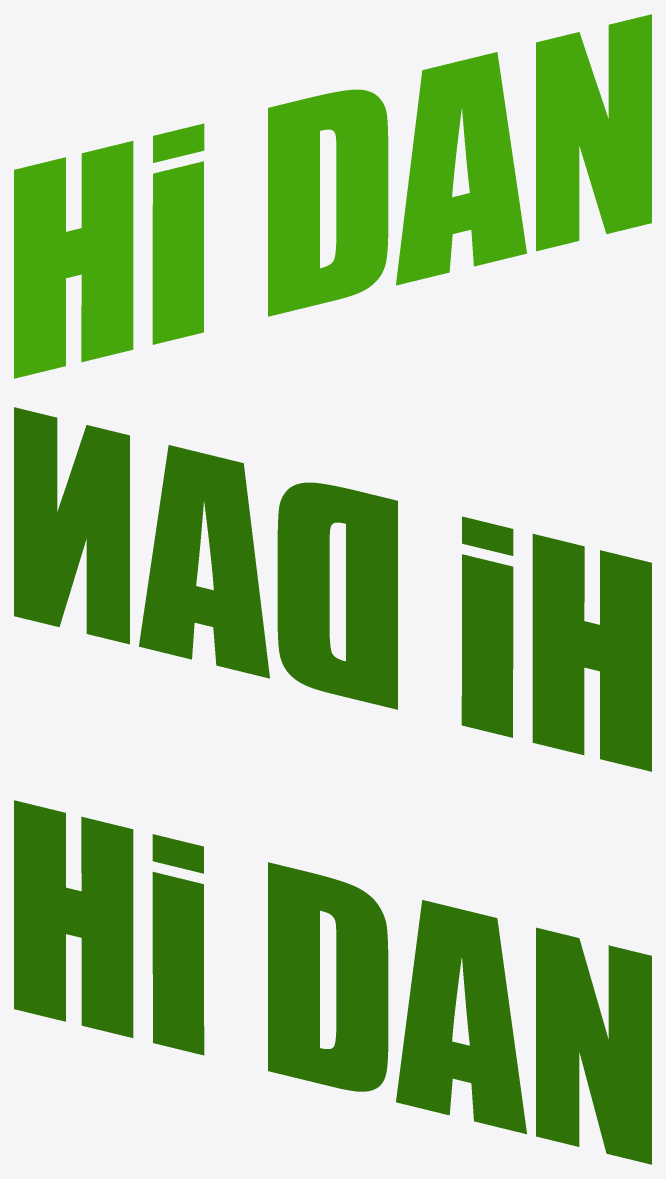
File: asset.glb
3 renders of one model, top to bottom at view 1: azimuth 30°, elevation 25°; view 2: azimuth 150°, elevation 25°; view 3: azimuth 330°, elevation 25°, orthographic.
Parts seen in each view (by area): view 1: Text; view 2: Text; view 3: Text.
Boxes of the visible parts, box(x1,y1,x2,y2) form: Text: box(14, 14, 651, 378); Text: box(14, 407, 651, 771); Text: box(14, 800, 651, 1164).
Size of the model in its own units: 14.84 by 4.65 by 0.00269.
